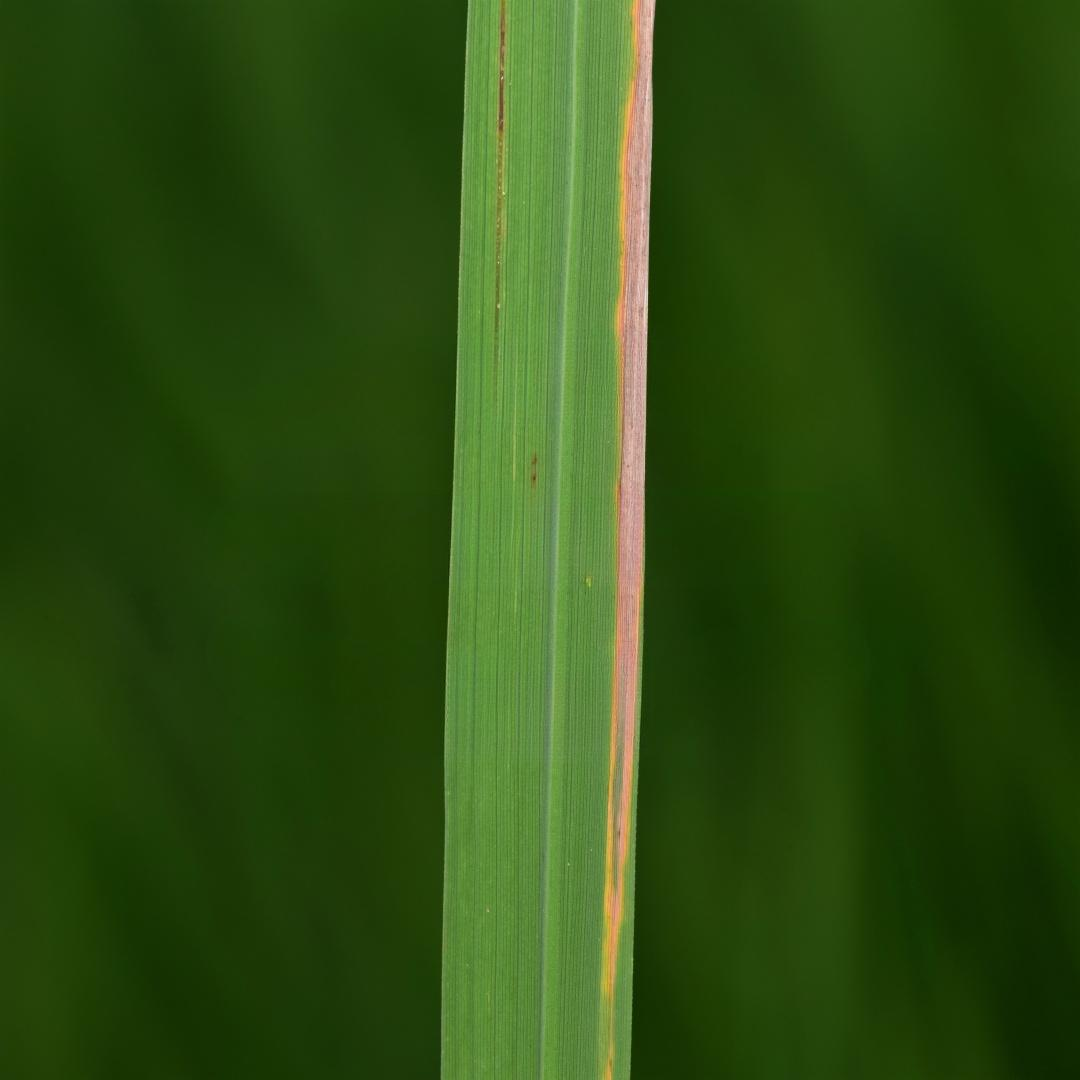BLB: (600, 0, 654, 1078)
LEAF: (442, 0, 654, 1079)
